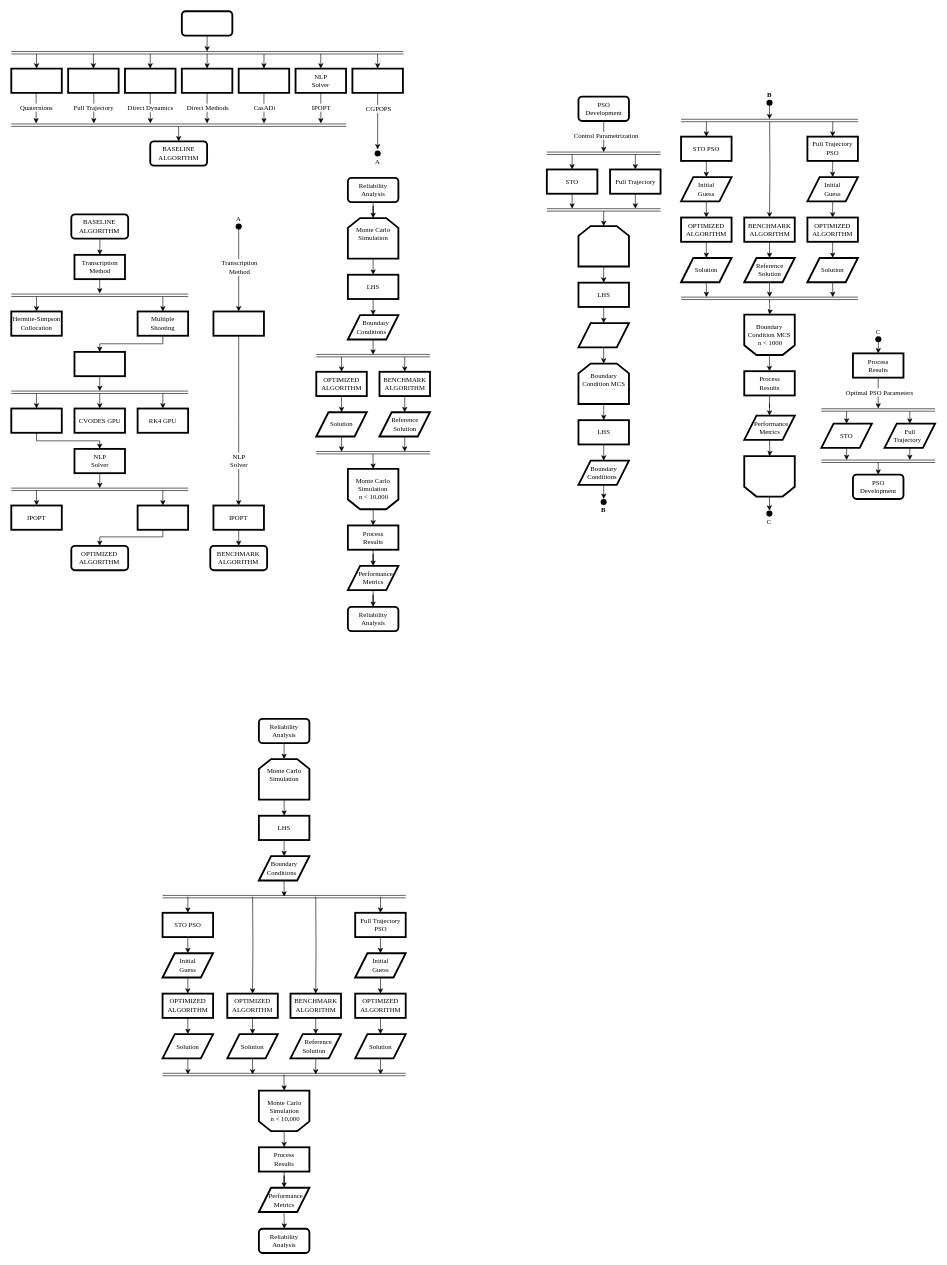
Some shapes in this 947 by 1265 pixel diagram are drawn without their labels. The centre of each missing label's shape, as x and y in pixels:
"Attitude Parameterization" belongs at (x=36, y=80).
"Computational Framework" belongs at (x=263, y=80).
"Control Parameterization" belongs at (x=93, y=80).
"Dynamics Formulation" belongs at (x=150, y=80).
"FATROP" belongs at (x=162, y=517).
"Foundational Work" belongs at (x=207, y=23).
"Integration Scheme" belongs at (x=99, y=364).
"LGR Collocation" belongs at (x=238, y=323).
"Optimization Methodology" belongs at (x=207, y=80).
"Parameter Tuning MCS" belongs at (x=603, y=246).
"Parameter Tuning MCS n < 1000" belongs at (x=769, y=476).
"PSO Parameters" belongs at (x=603, y=335).
"RK4 CPU" belongs at (x=36, y=420).
"Validation Approach" belongs at (x=377, y=80).
